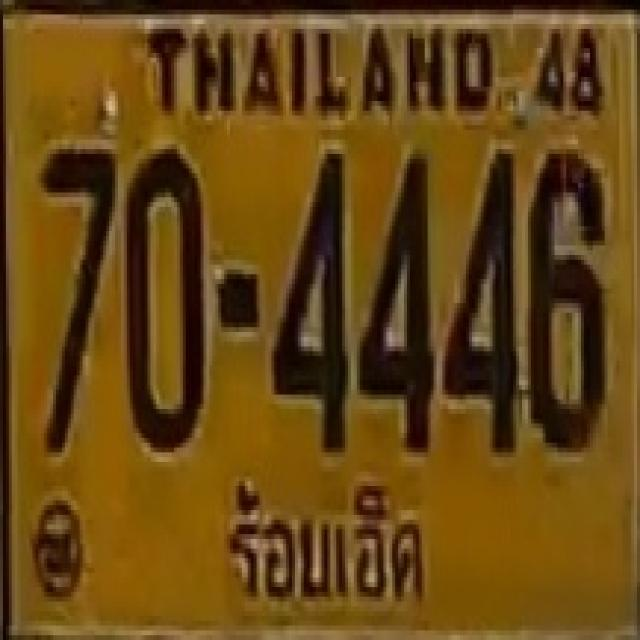0: (124, 144, 203, 448)
4: (443, 144, 516, 448), (358, 149, 432, 448), (273, 149, 346, 448)
6: (528, 147, 602, 445)
7: (40, 144, 113, 452), (40, 144, 113, 356)
RET: (211, 471, 435, 623)
